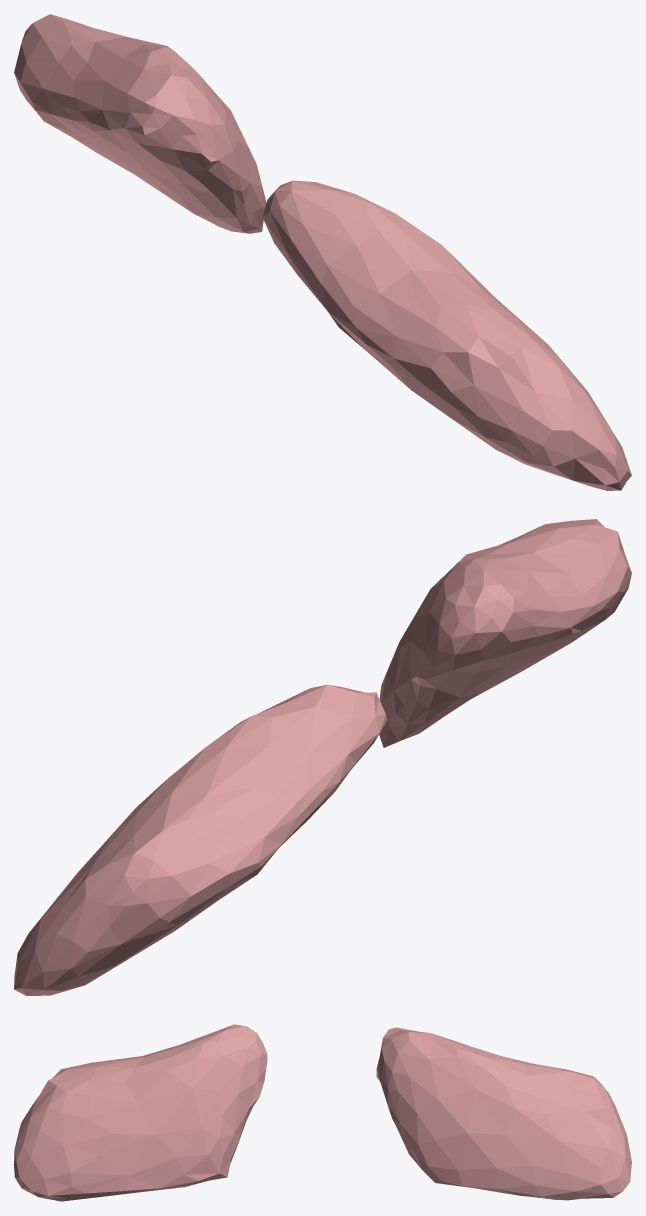
The picture shows the model from 3 angles, top to bottom: view 1: azimuth 30°, elevation 25°; view 2: azimuth 150°, elevation 25°; view 3: azimuth 270°, elevation 25°; orthographic projection. The views are drawn at different scales.
Visible parts, largest first — view 1: 741.obj; view 2: 741.obj; view 3: 741.obj.
Part boxes in pixels (x1,y1,x2,y2): 741.obj: (14,14,631,490); 741.obj: (14,519,631,995); 741.obj: (14,1024,631,1201).
Bounding box in the file's own units: 491 × 507 × 2205.
